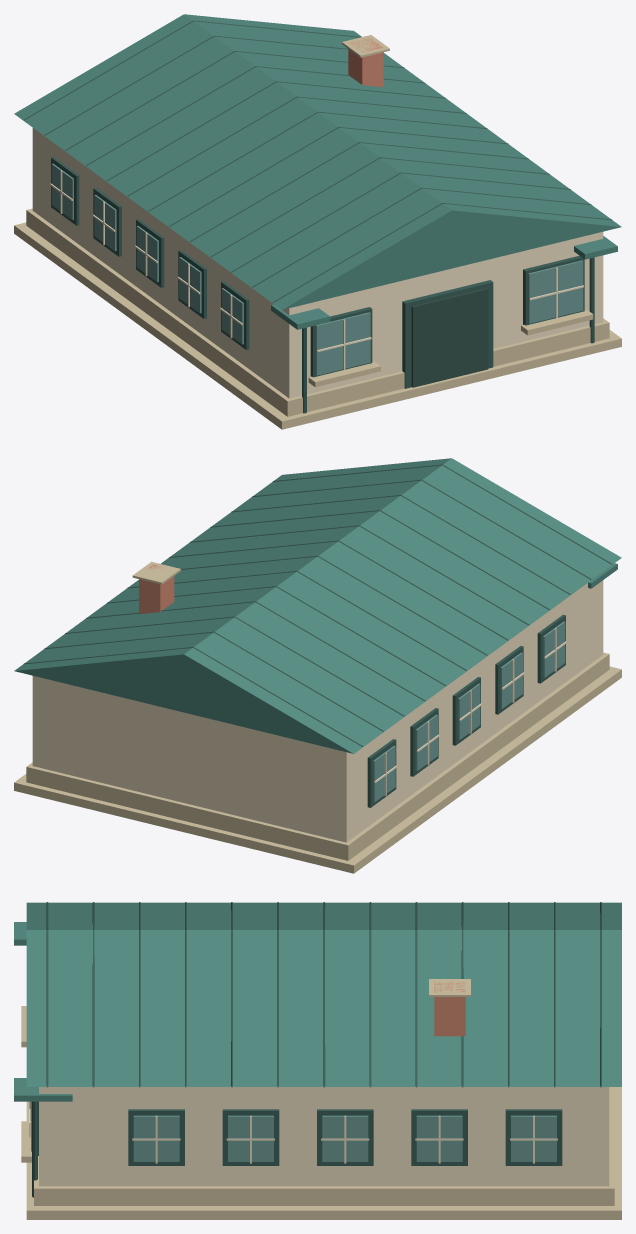
Rendered from memory-atelier.glb.
3 renders of one model, top to bottom at view 1: azimuth 30°, elevation 25°; view 2: azimuth 150°, elevation 25°; view 3: azimuth 270°, elevation 25°, orthographic. The views are drawn at different scales.
Visible parts, largest first — view 1: memory-atelier; view 2: memory-atelier; view 3: memory-atelier.
Boxes of the visible parts, x1=… form: memory-atelier: x1=14, y1=14, x2=621, y2=429; memory-atelier: x1=14, y1=458, x2=621, y2=873; memory-atelier: x1=14, y1=902, x2=621, y2=1219.
Size of the model in its own units: 10.4 by 5.21 by 14.5.
